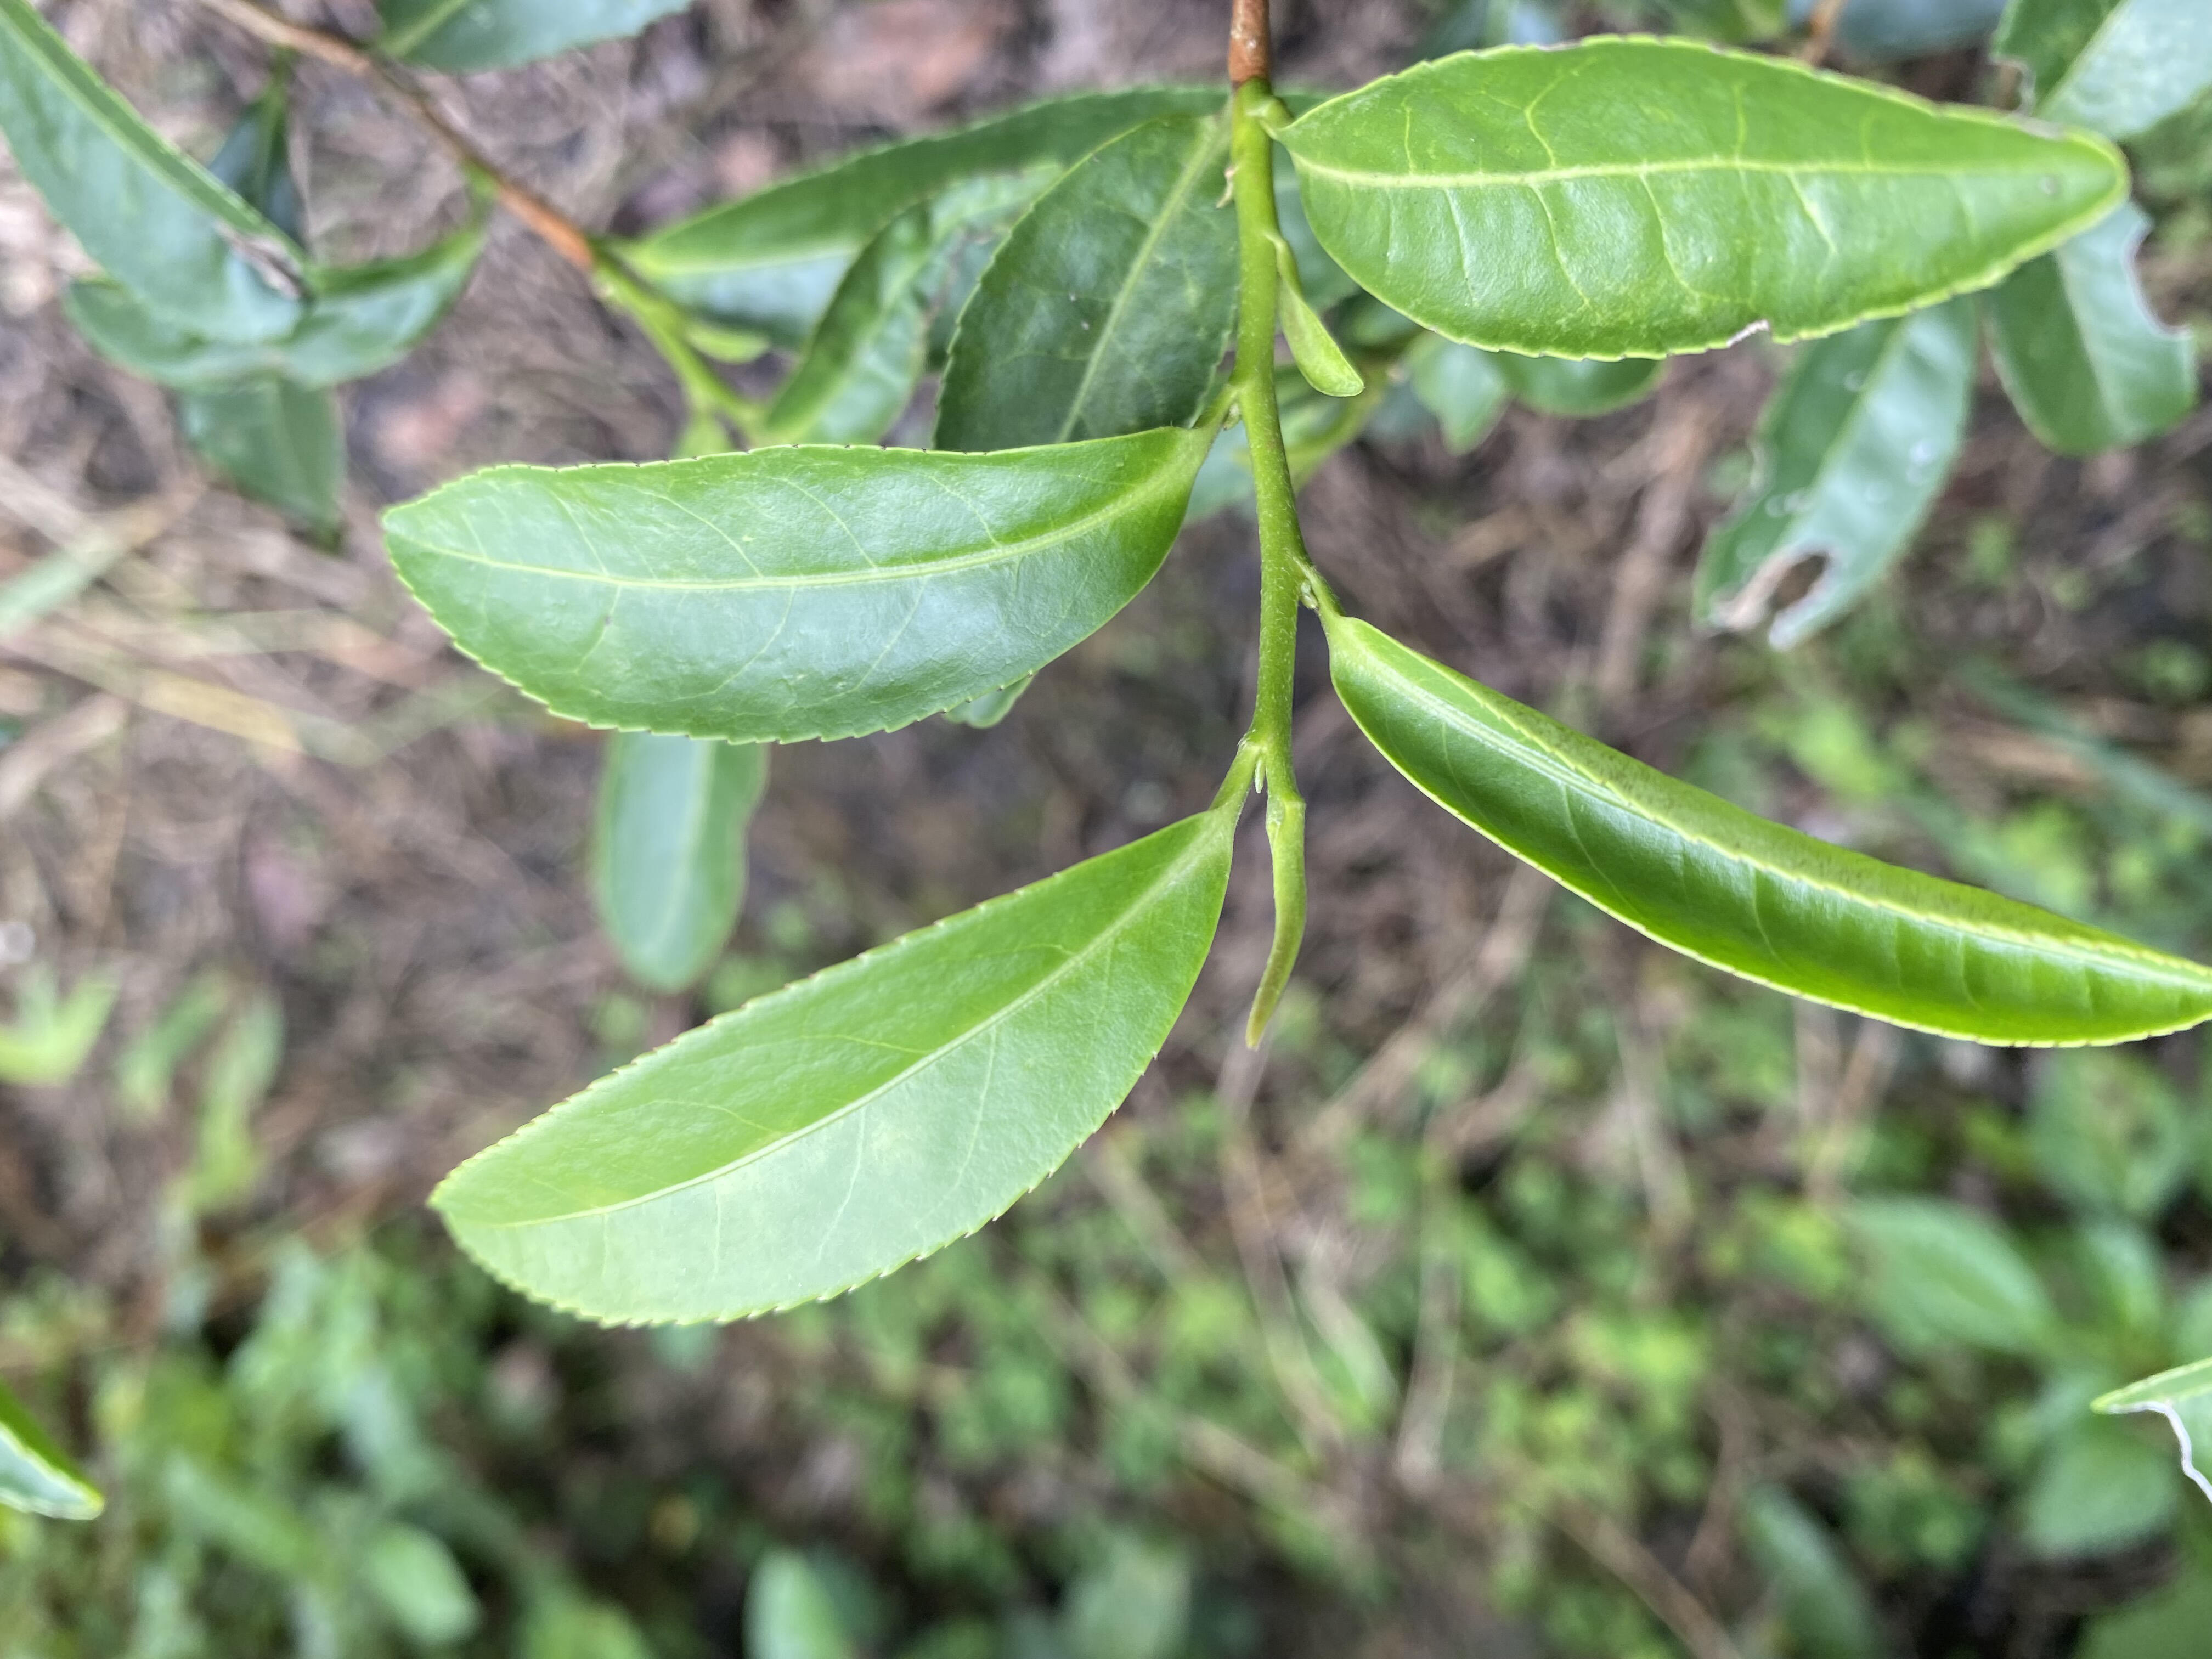chihuo_low: (1282, 35, 2127, 361)
healthy: (423, 810, 1238, 1335), (1324, 608, 2209, 1054), (380, 425, 1202, 749)
